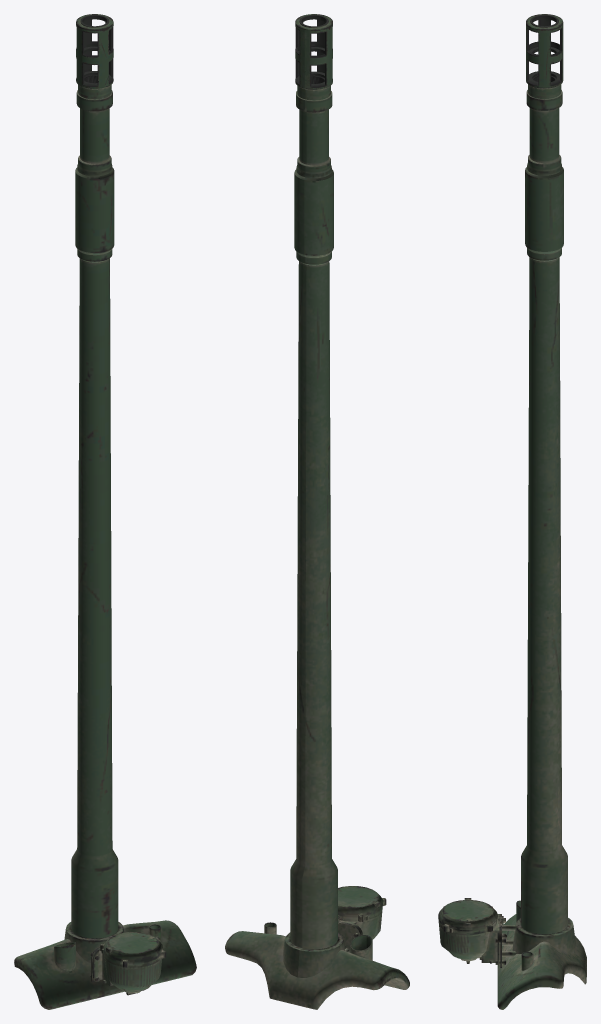
Rendered from Gun_04.glb.
3 renders of one model, left to right at view 1: azimuth 30°, elevation 25°; view 2: azimuth 150°, elevation 25°; view 3: azimuth 270°, elevation 25°, orthographic.
Visible parts, largest first — view 1: set_0_group_0; view 2: set_0_group_0; view 3: set_0_group_0.
Boxes of the visible parts, box(x1,y1,x2,y2) form: set_0_group_0: box(14, 14, 196, 1009); set_0_group_0: box(225, 14, 409, 1009); set_0_group_0: box(438, 14, 586, 1009).
Size of the model in its own units: 1.05 by 6.2 by 0.8768.
Materials: 1 (1 with a texture image).
